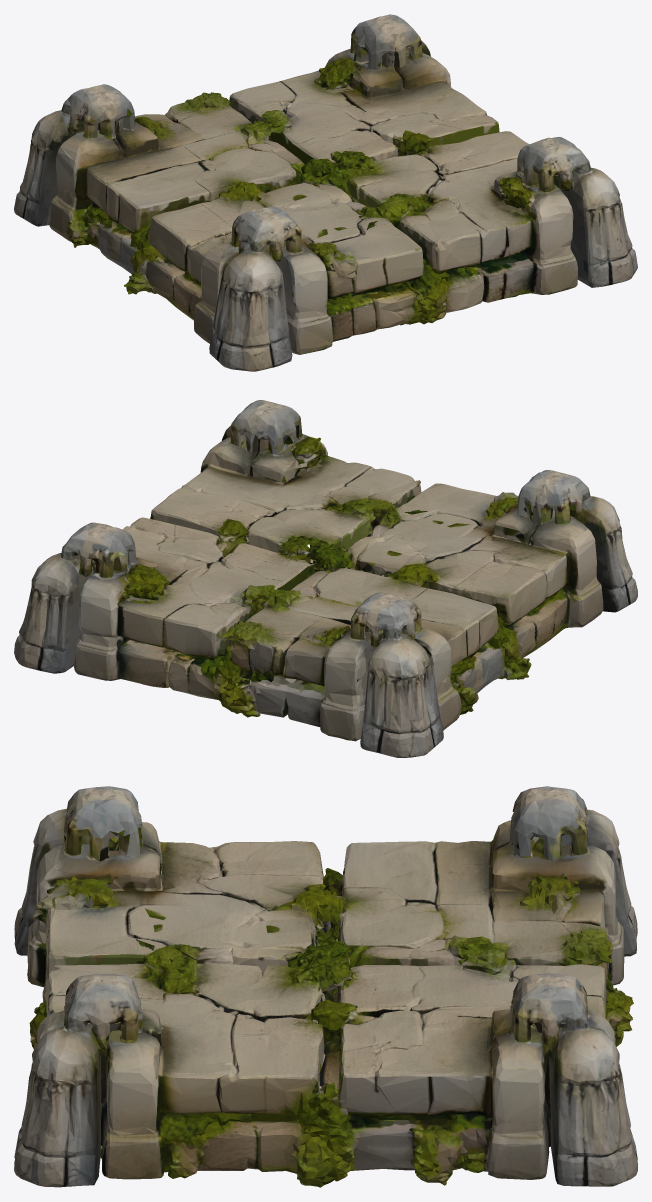
Rendered from modular-granite-floor-slab-optimized.glb.
The picture shows the model from 3 angles, top to bottom: view 1: azimuth 30°, elevation 25°; view 2: azimuth 150°, elevation 25°; view 3: azimuth 270°, elevation 25°; orthographic projection. The views are drawn at different scales.
Visible parts, largest first — view 1: 8b540c5d-68b9-48a3-b675-28716e6c1492_texturing.obj; view 2: 8b540c5d-68b9-48a3-b675-28716e6c1492_texturing.obj; view 3: 8b540c5d-68b9-48a3-b675-28716e6c1492_texturing.obj.
Part boxes in pixels (left/top/right/bottom): 8b540c5d-68b9-48a3-b675-28716e6c1492_texturing.obj: left=14, top=14, right=637, bottom=371; 8b540c5d-68b9-48a3-b675-28716e6c1492_texturing.obj: left=14, top=400, right=637, bottom=757; 8b540c5d-68b9-48a3-b675-28716e6c1492_texturing.obj: left=14, top=786, right=637, bottom=1187.
Size of the model in its own units: 2 by 0.6192 by 1.96.
1 material, 1 textured.
